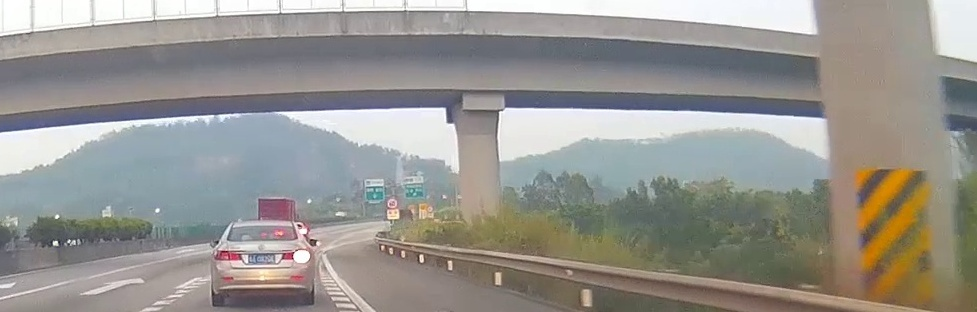L_light: (213, 249, 243, 261)
R_light: (281, 249, 310, 260)
T_light: (255, 239, 271, 241)
day-right: (211, 220, 315, 306)
